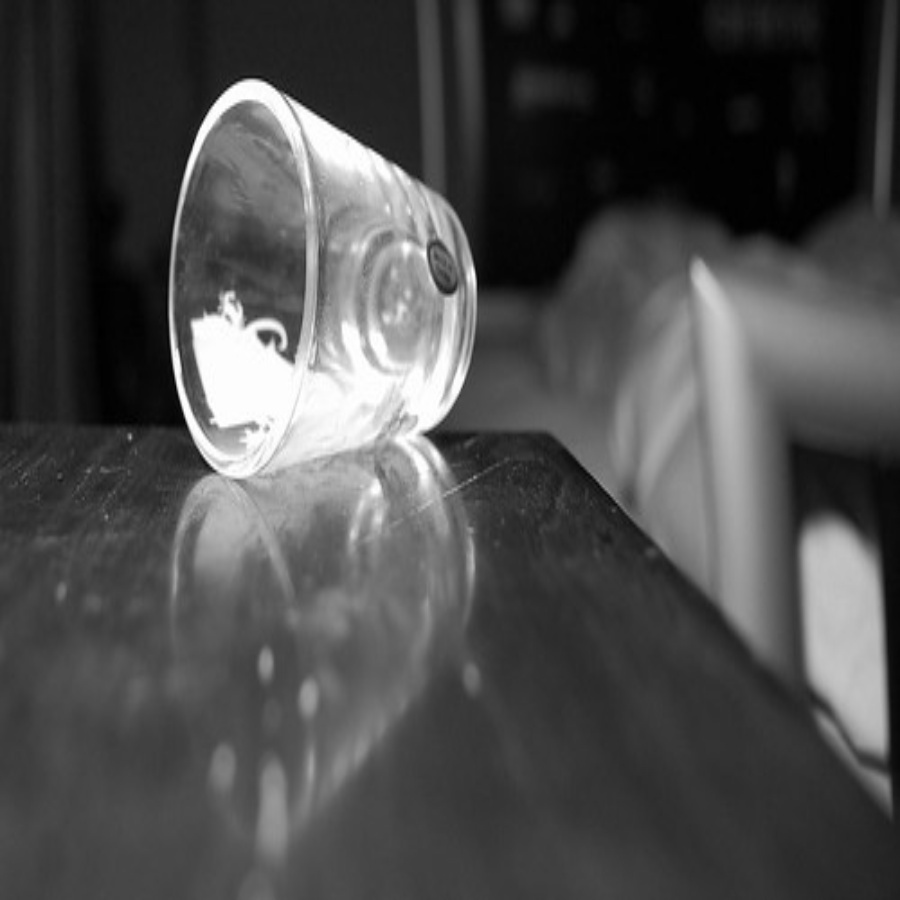whiskey: (146, 95, 467, 483)
